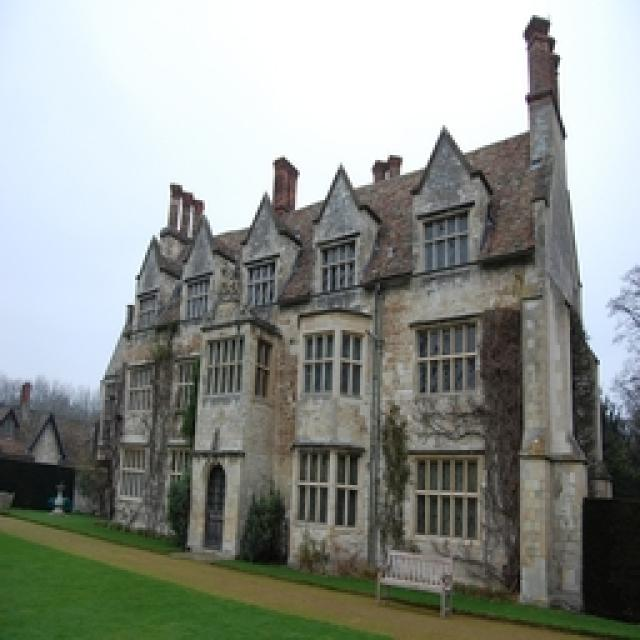Abbey: (195, 302, 245, 562)
